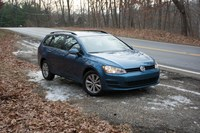car: (37, 30, 160, 95)
